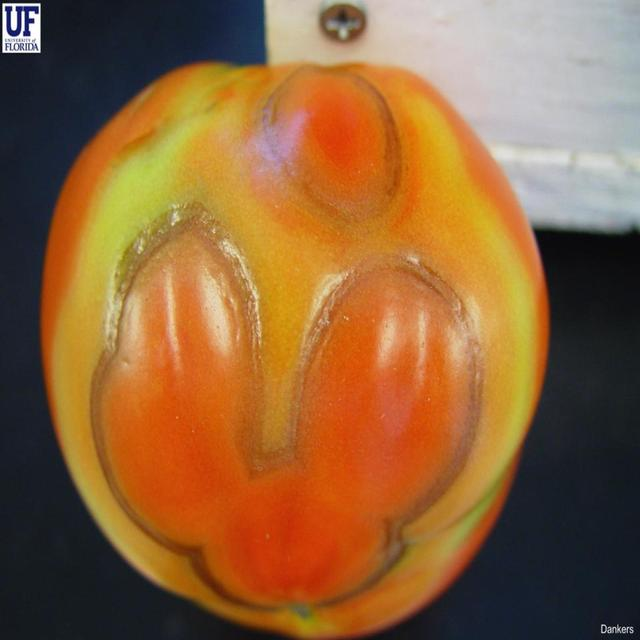Spotted wilt Virus Fruit: (112, 216, 372, 638)
